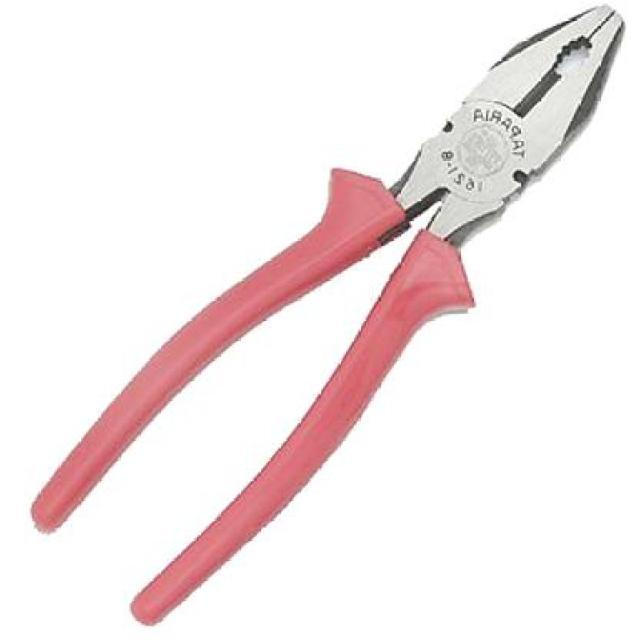pliers: (32, 1, 620, 626)
